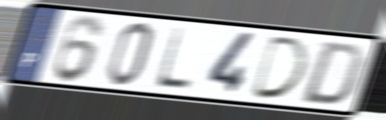0: (104, 20, 157, 88)
4: (204, 29, 254, 100)
6: (51, 13, 105, 86)
D: (297, 40, 367, 108), (247, 34, 313, 102)
L: (152, 25, 195, 93)
